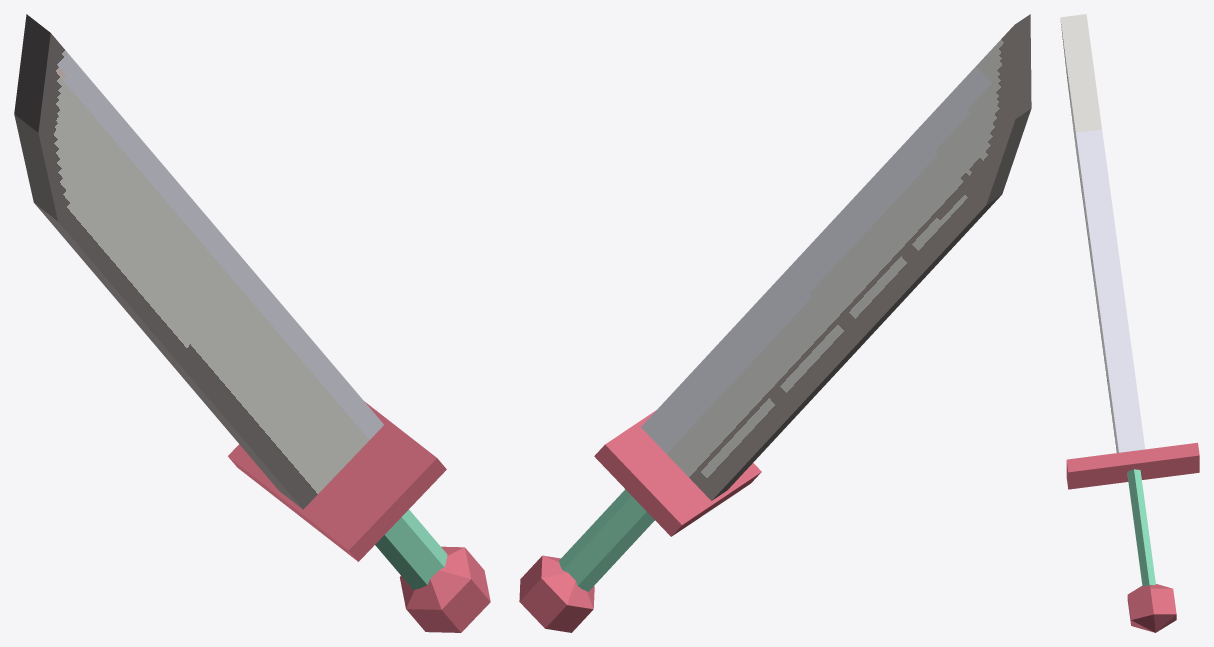
The model's file is SwordRightHand.gltf.
3 renders of one model, left to right at view 1: azimuth 30°, elevation 25°; view 2: azimuth 150°, elevation 25°; view 3: azimuth 270°, elevation 25°, orthographic. The views are drawn at different scales.
Parts seen in each view (by area): view 1: Blade, WristGuard, CounterWeight, Handle; view 2: Blade, WristGuard, Handle, CounterWeight; view 3: Blade, WristGuard, CounterWeight, Handle.
Boxes of the visible parts, left/top/right/bottom form: Blade: left=14, top=14, right=383, bottom=509; WristGuard: left=228, top=401, right=446, bottom=561; CounterWeight: left=399, top=546, right=490, bottom=632; Handle: left=375, top=509, right=447, bottom=589; Blade: left=641, top=14, right=1031, bottom=500; WristGuard: left=594, top=410, right=761, bottom=536; Handle: left=559, top=489, right=654, bottom=591; CounterWeight: left=519, top=555, right=594, bottom=632; Blade: left=1060, top=14, right=1144, bottom=452; WristGuard: left=1066, top=442, right=1199, bottom=489; CounterWeight: left=1127, top=584, right=1176, bottom=632; Handle: left=1127, top=469, right=1155, bottom=586.
Bounding box in the file's own units: 0.8735 × 1.24 × 0.3287.
1 material, 1 textured.
